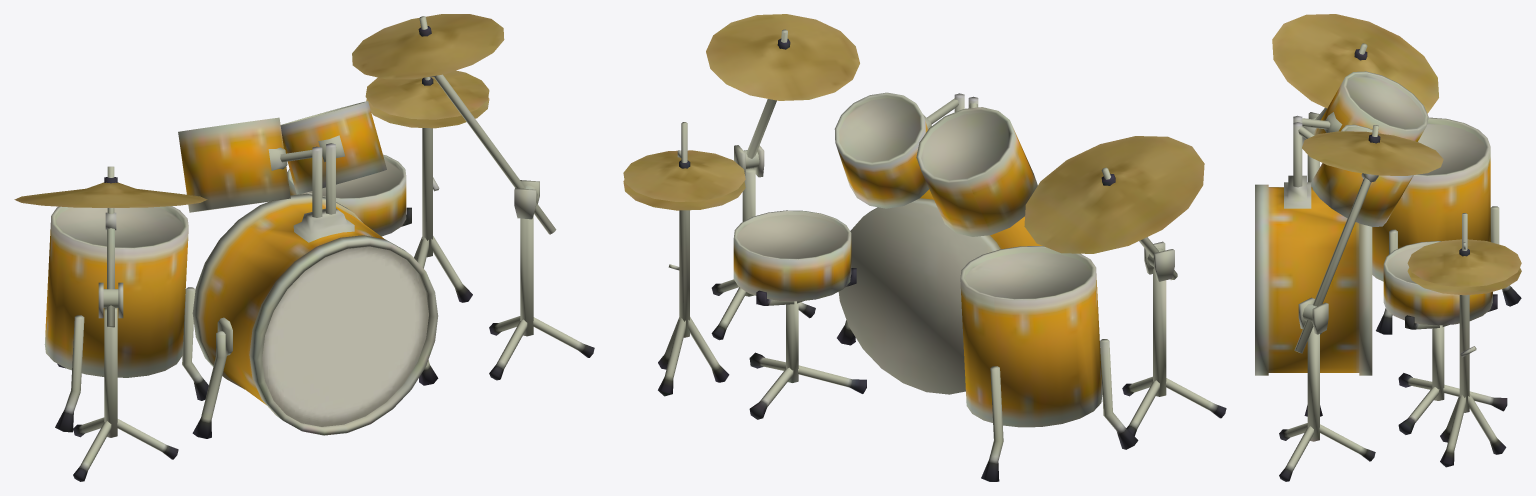
3 views of the same model, side by side, from view 1: azimuth 30°, elevation 25°; view 2: azimuth 150°, elevation 25°; view 3: azimuth 270°, elevation 25° (orthographic). The views are drawn at different scales.
Size of the model in its own units: 19.76 by 11.99 by 9.46.
2 materials, 2 textured.
